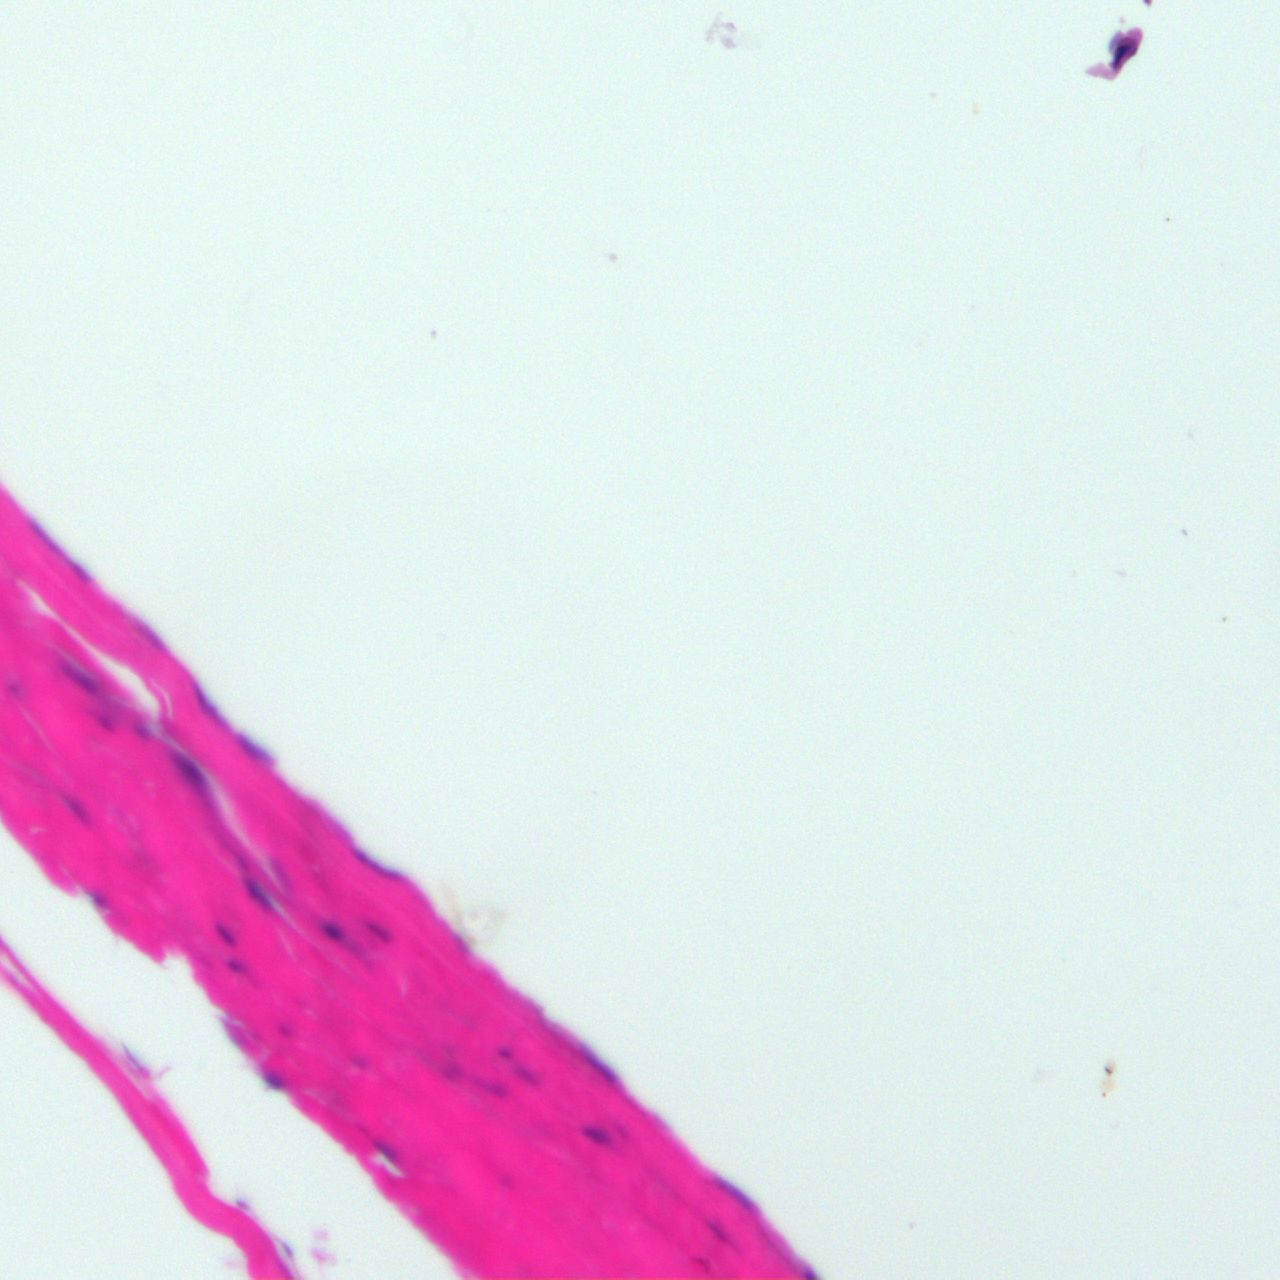nucleus-HE: (706, 1170, 770, 1223), (165, 742, 217, 796), (52, 654, 105, 700), (54, 787, 101, 833), (232, 728, 278, 770), (580, 1047, 625, 1089), (365, 1128, 407, 1170), (239, 873, 278, 915), (188, 682, 225, 726), (581, 1124, 615, 1148), (362, 915, 392, 942), (318, 917, 345, 940), (260, 1067, 282, 1092), (215, 919, 233, 947), (225, 959, 244, 974)
